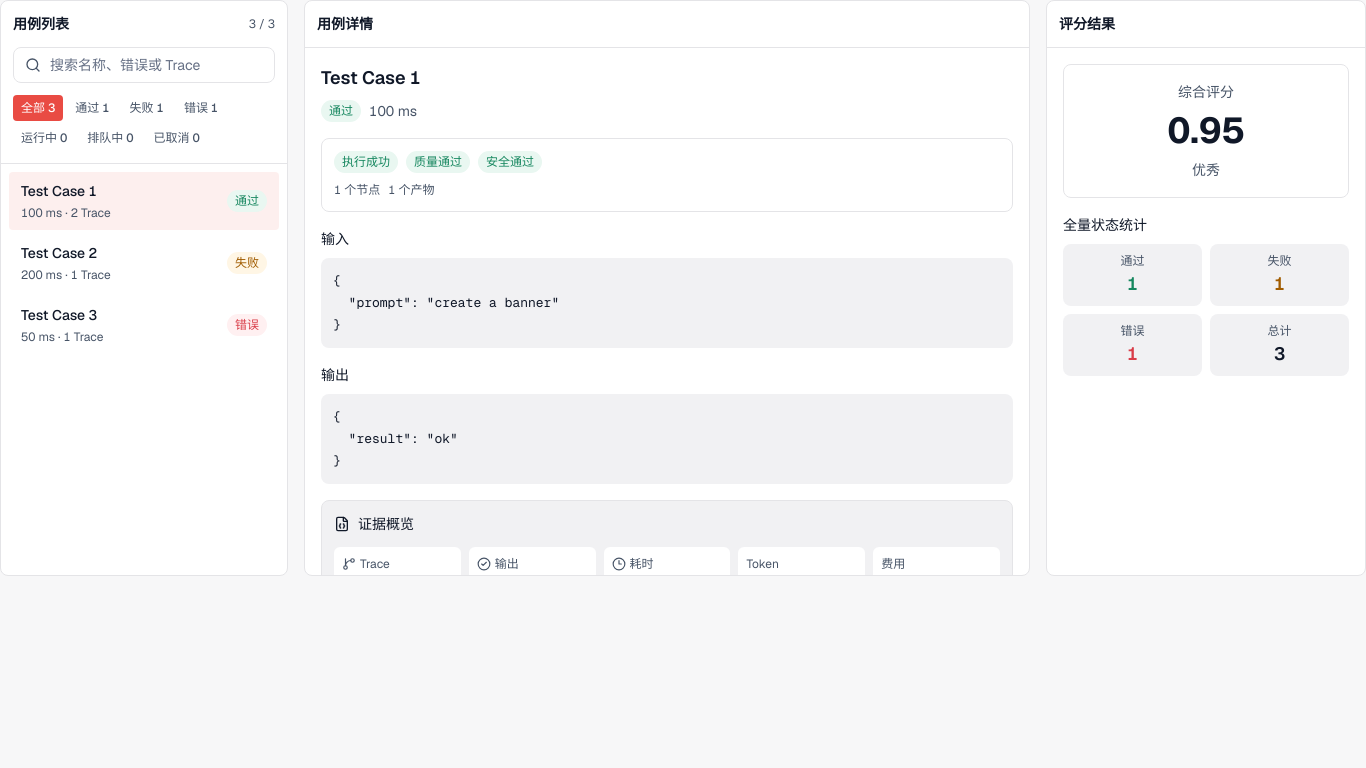
RunResultWorkbench › supports filtering cases by status
Click the button "失败 1".
click(147, 108)  # box x1=122 y1=95 x2=172 y2=121
(page scrolled)
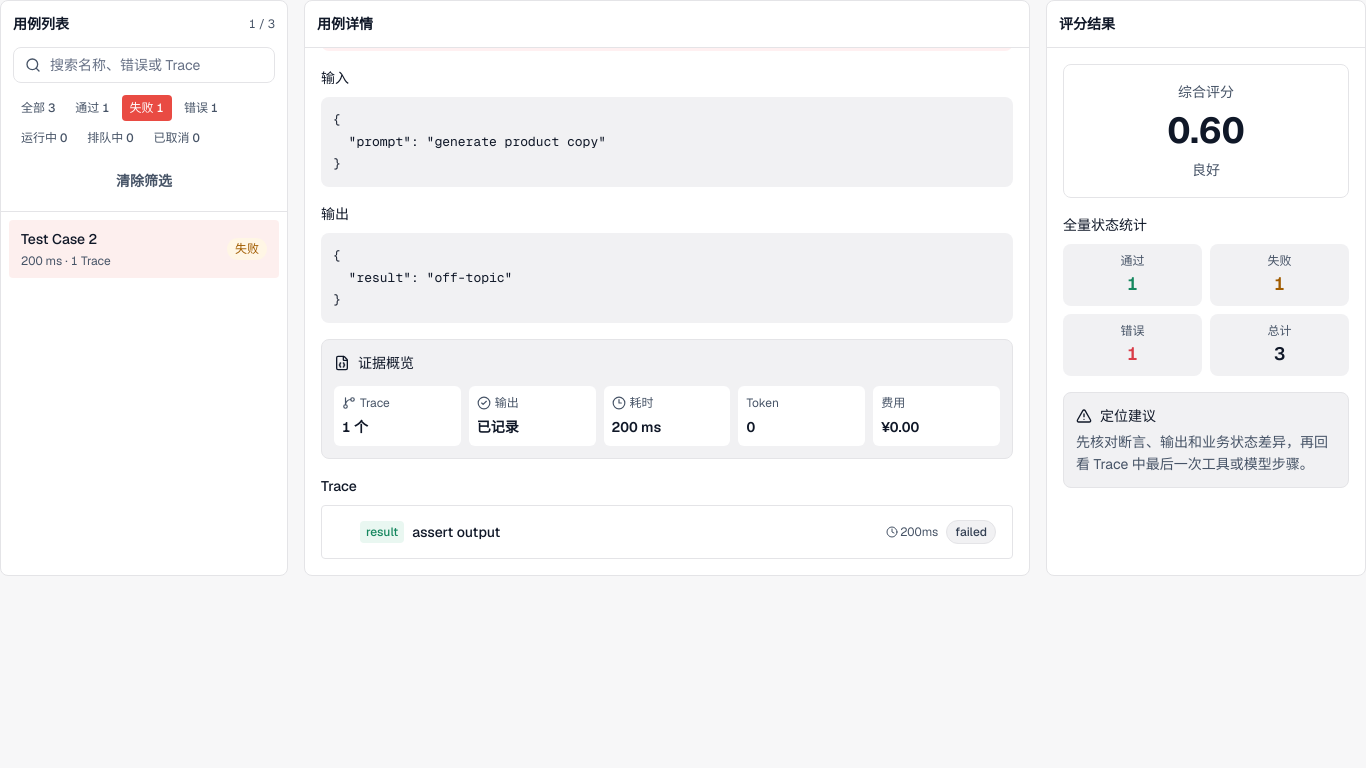
expect the button "Test Case 1" is gone: met
expect the button "Test Case 3" is gone: met
expect the text "failed" is shown: met, box x1=946 y1=520 x2=996 y2=544
